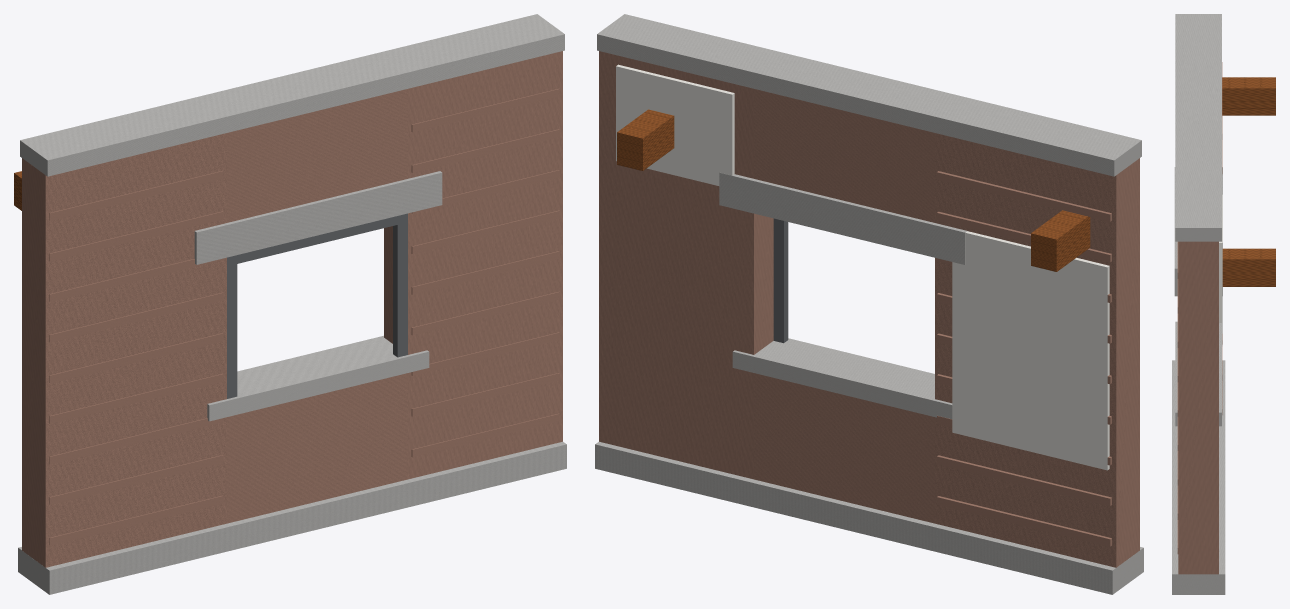
Rendered from demolition-and-site-clearance-demolition-and-site-clea-fafe6936__35673.glb.
3 views of the same model, side by side, from view 1: azimuth 30°, elevation 25°; view 2: azimuth 150°, elevation 25°; view 3: azimuth 270°, elevation 25° (orthographic). The views are drawn at different scales.
Visible parts, largest first — view 1: demolition-and-site-clearance-demolition-wall-section; view 2: demolition-and-site-clearance-demolition-wall-section; view 3: demolition-and-site-clearance-demolition-wall-section.
Part boxes in pixels (bbox=[...]): demolition-and-site-clearance-demolition-wall-section: bbox=[14, 14, 566, 594]; demolition-and-site-clearance-demolition-wall-section: bbox=[595, 14, 1143, 594]; demolition-and-site-clearance-demolition-wall-section: bbox=[1172, 14, 1275, 594].
Size of the model in its own units: 4 by 3.2 by 0.82.
Materials: 5 (3 with a texture image).
